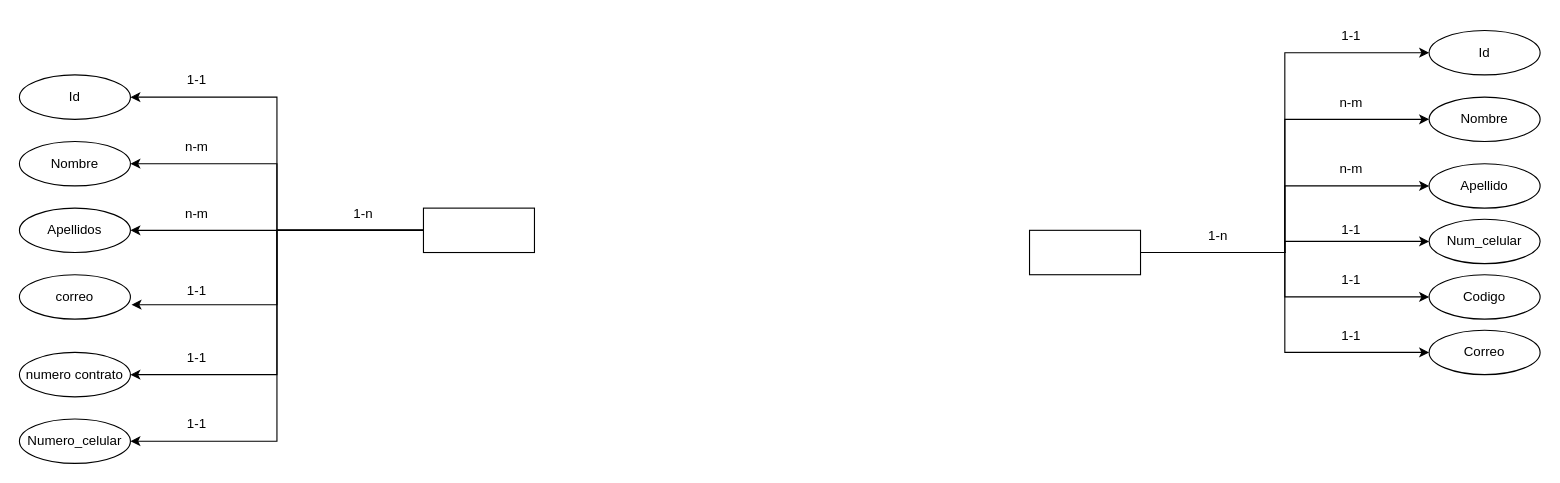
Some shapes in this 1560 by 483 pixel diagram are drawn without their labels. Each missing label, with the centre of its shape:
Estudiante: point 1084,252
Profesor: point 478,230
